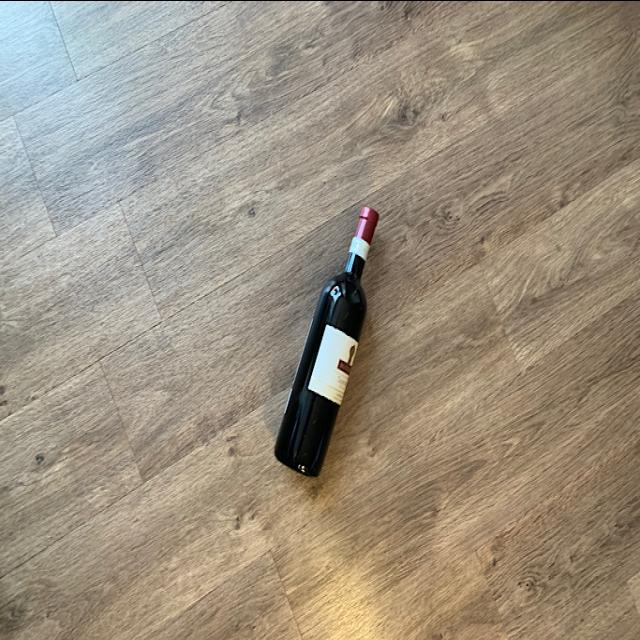litter: (276, 200, 382, 480)
